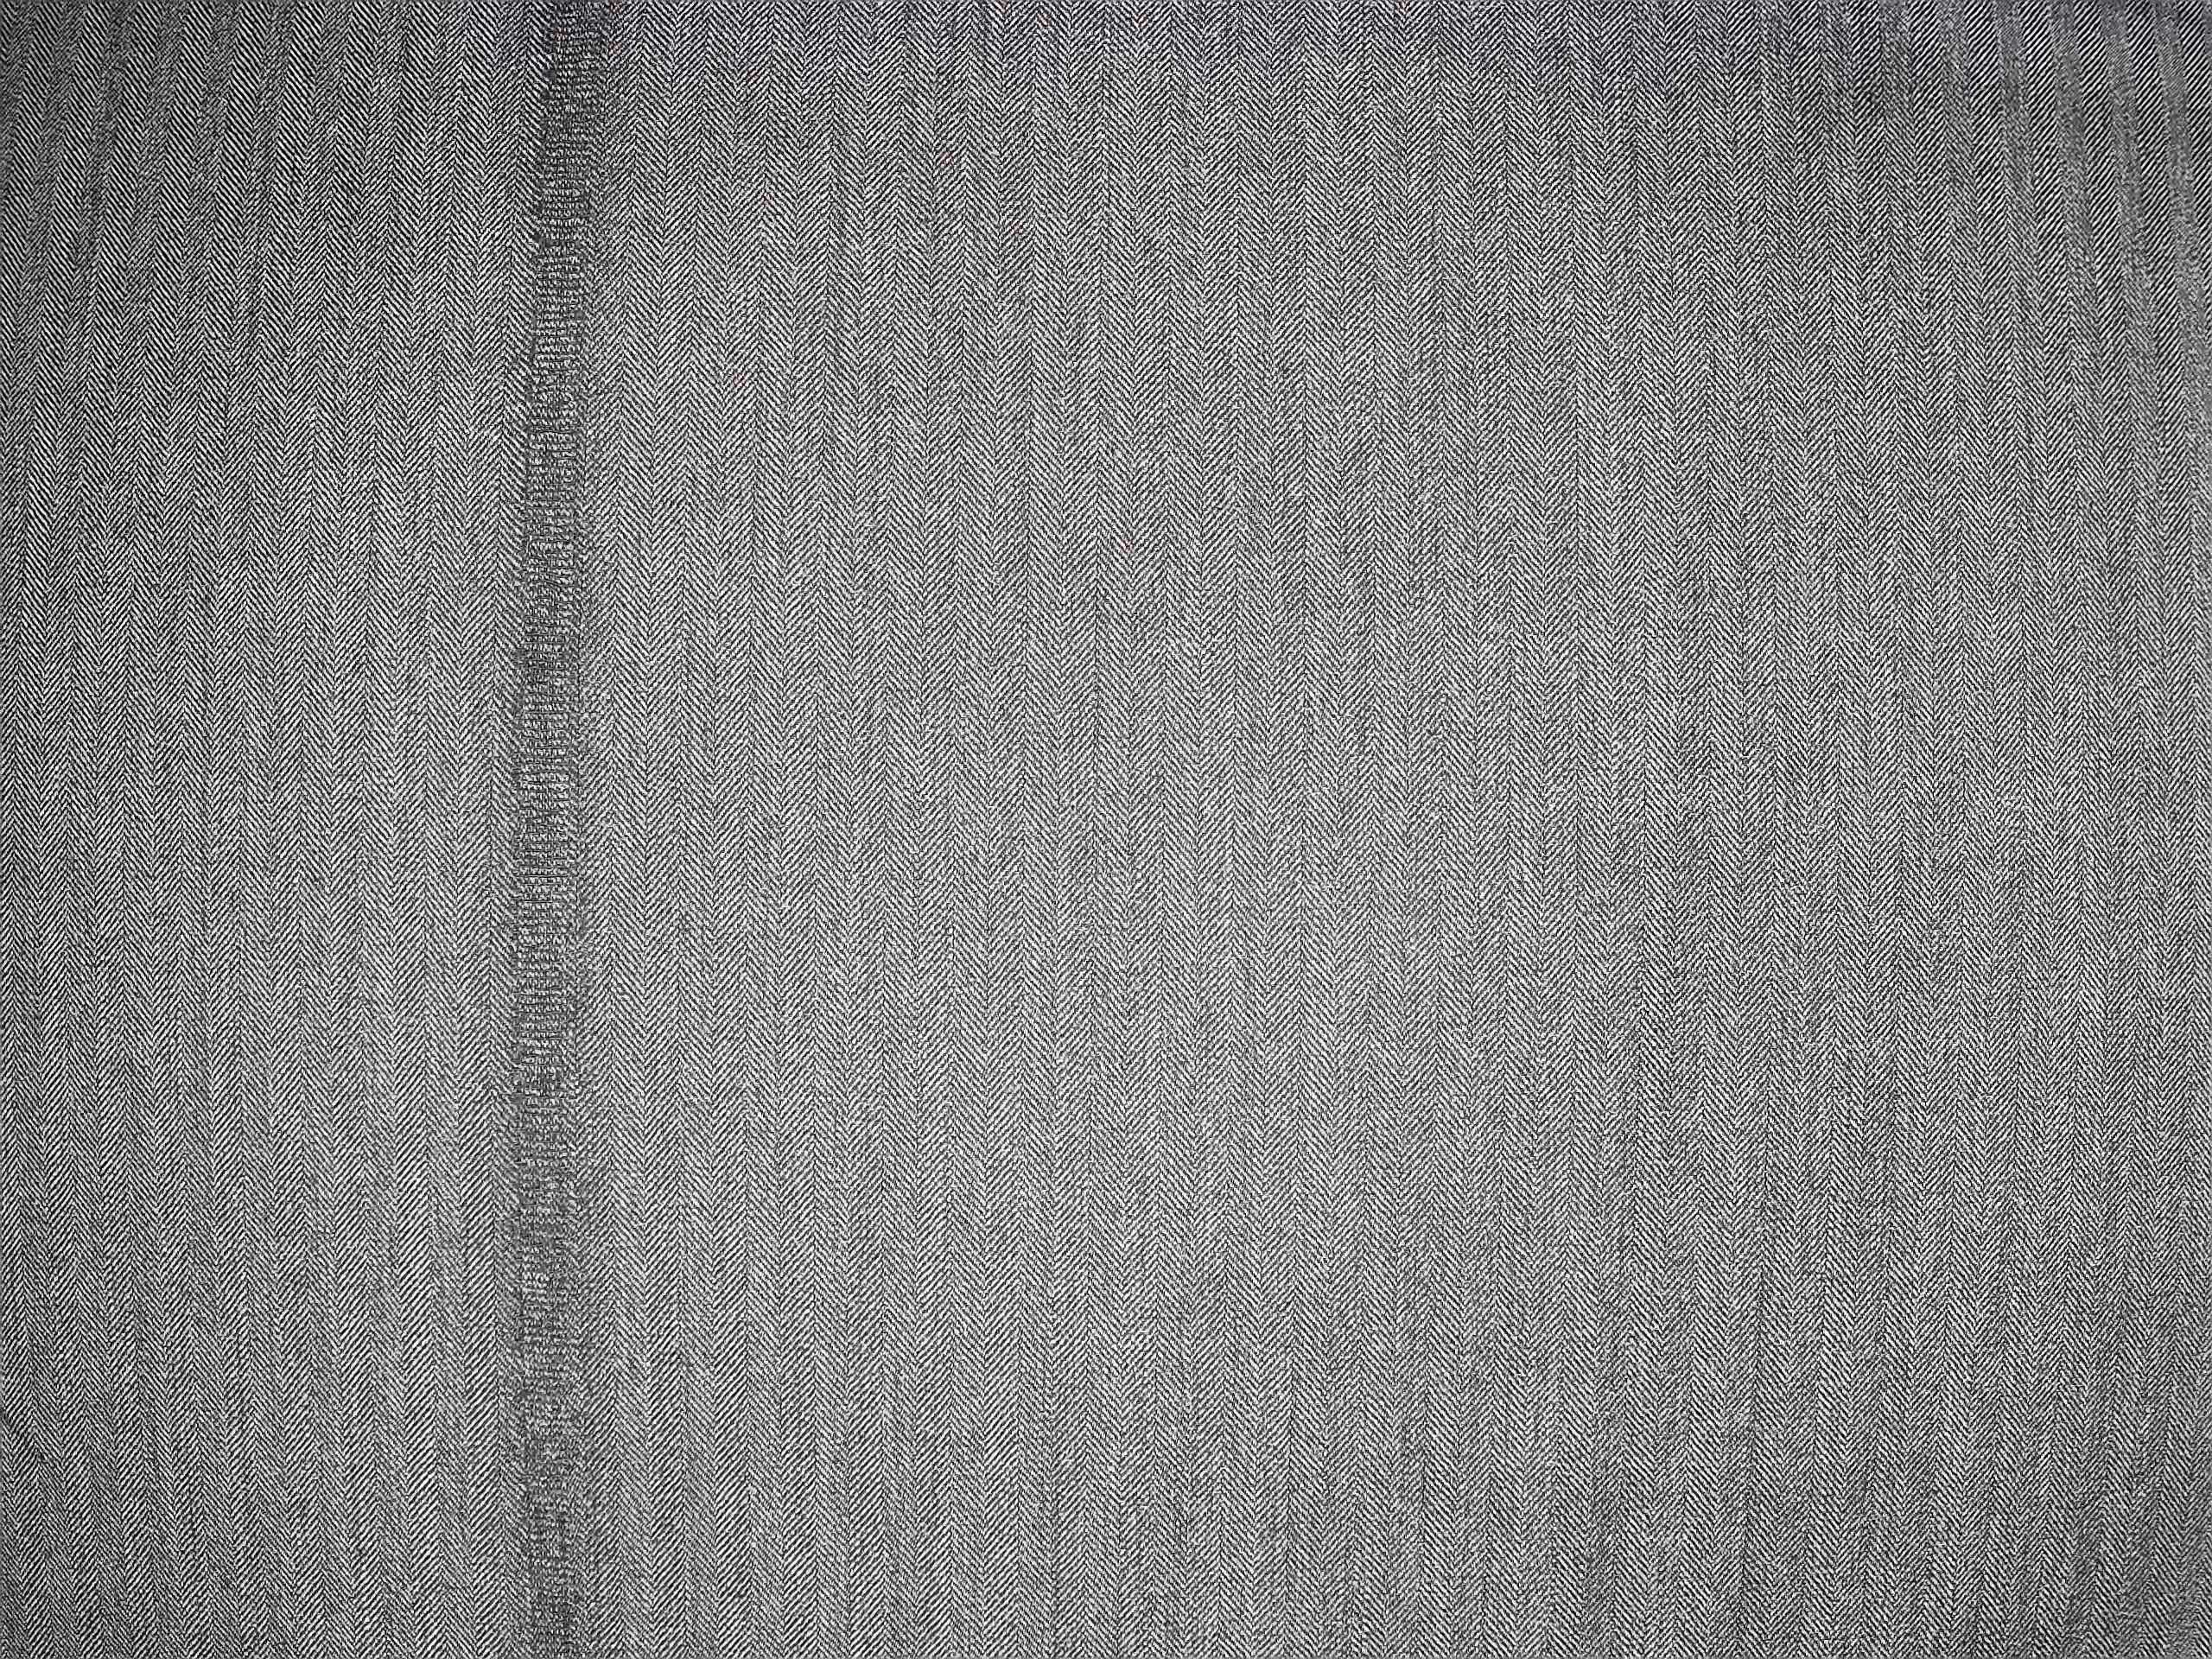others: (474, 14, 639, 1636)
